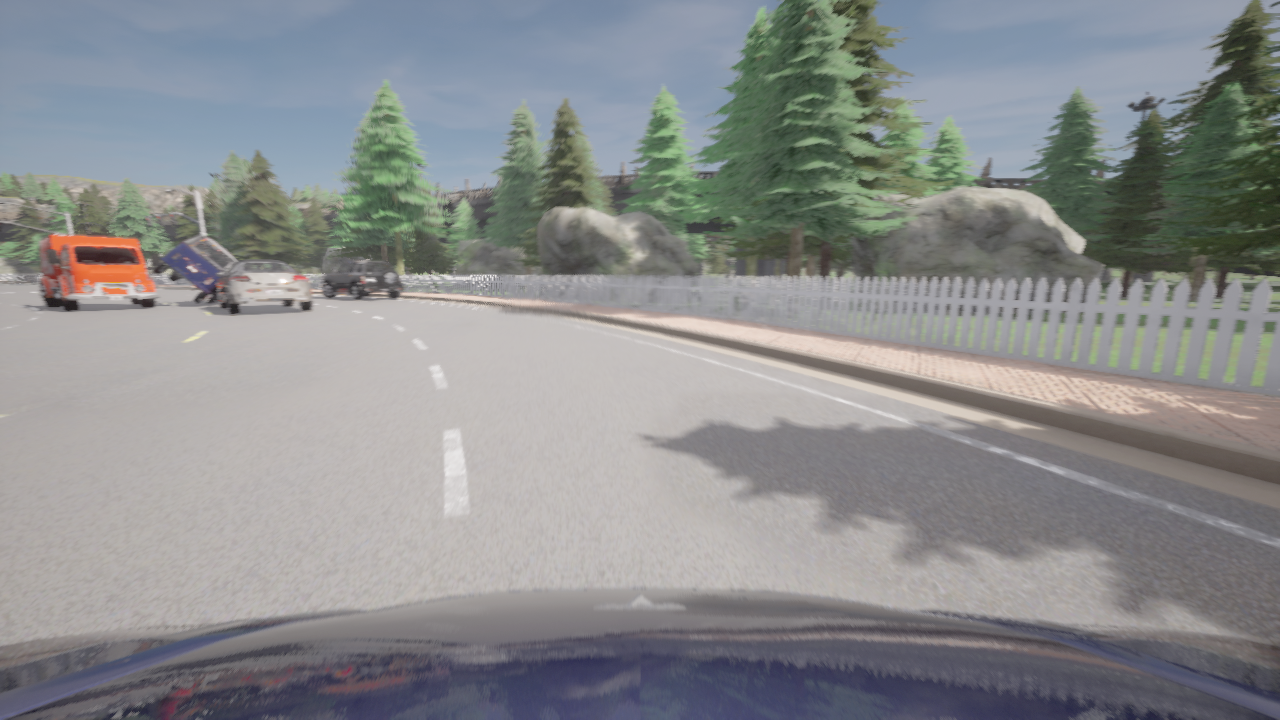cyclist: (0, 588, 1279, 719), (39, 234, 160, 310), (153, 234, 237, 302), (217, 260, 312, 313), (321, 259, 403, 299), (150, 276, 153, 280)
